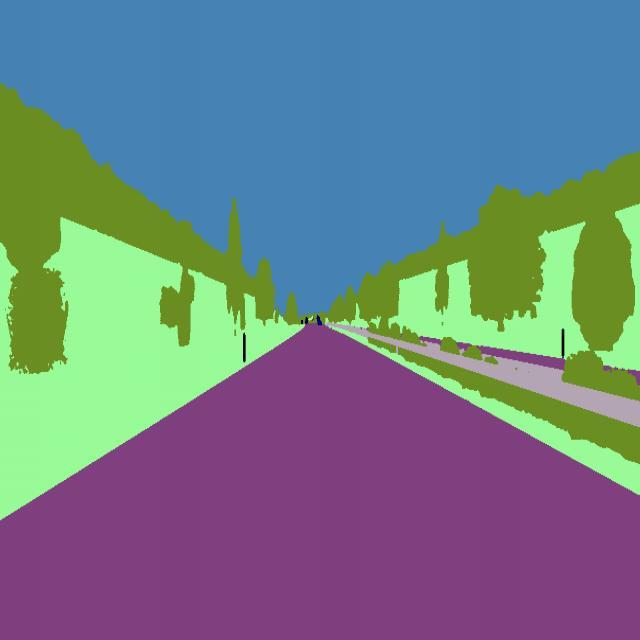safe: (316, 316, 324, 329)
